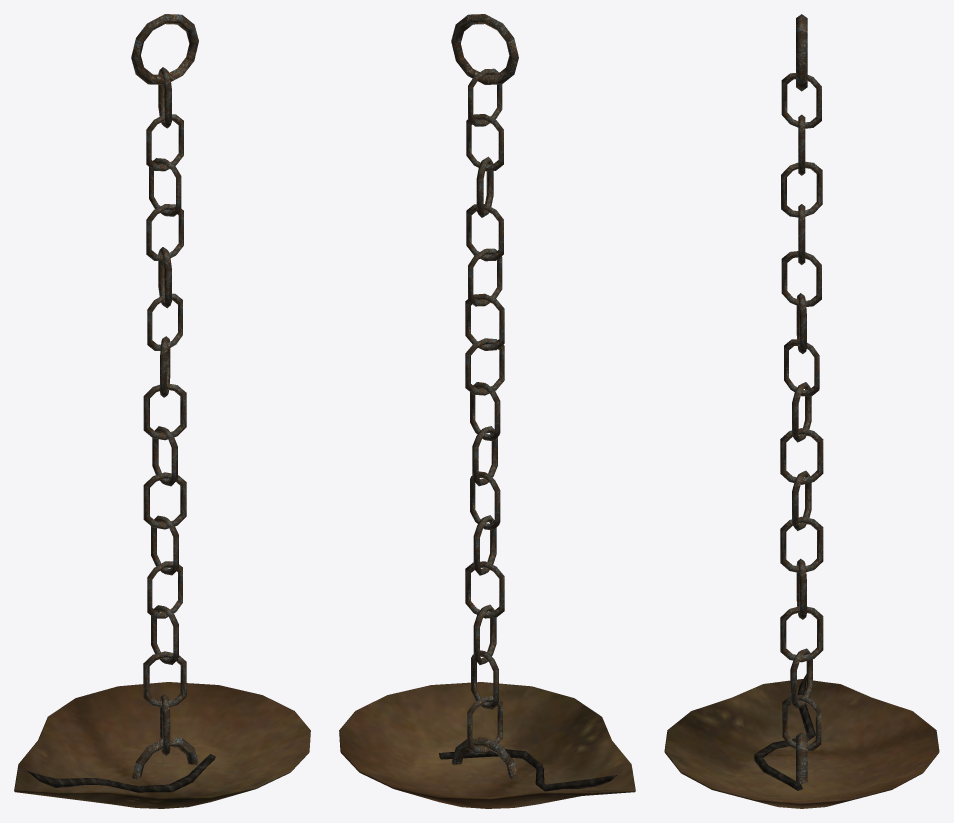
File: G3_Object_Latern_Oil_01.obj
3 renders of one model, left to right at view 1: azimuth 30°, elevation 25°; view 2: azimuth 150°, elevation 25°; view 3: azimuth 270°, elevation 25°, orthographic.
Parts seen in each view (by area): view 1: G3_Object_Latern_Oil_01_2, G3_Object_Latern_Oil_01_0, G3_Object_Latern_Oil_01_1; view 2: G3_Object_Latern_Oil_01_2, G3_Object_Latern_Oil_01_0, G3_Object_Latern_Oil_01_1; view 3: G3_Object_Latern_Oil_01_2, G3_Object_Latern_Oil_01_0, G3_Object_Latern_Oil_01_1.
Boxes of the visible parts, left/top/right/bottom form: G3_Object_Latern_Oil_01_2: left=14, top=682, right=310, bottom=808; G3_Object_Latern_Oil_01_0: left=131, top=14, right=198, bottom=779; G3_Object_Latern_Oil_01_1: left=27, top=754, right=215, bottom=792; G3_Object_Latern_Oil_01_2: left=339, top=682, right=635, bottom=808; G3_Object_Latern_Oil_01_0: left=451, top=14, right=518, bottom=779; G3_Object_Latern_Oil_01_1: left=439, top=749, right=617, bottom=791; G3_Object_Latern_Oil_01_2: left=664, top=679, right=939, bottom=808; G3_Object_Latern_Oil_01_0: left=780, top=14, right=823, bottom=783; G3_Object_Latern_Oil_01_1: left=753, top=674, right=815, bottom=790.
Bounding box in the file's own units: 0.3534 × 0.9236 × 0.3023.
